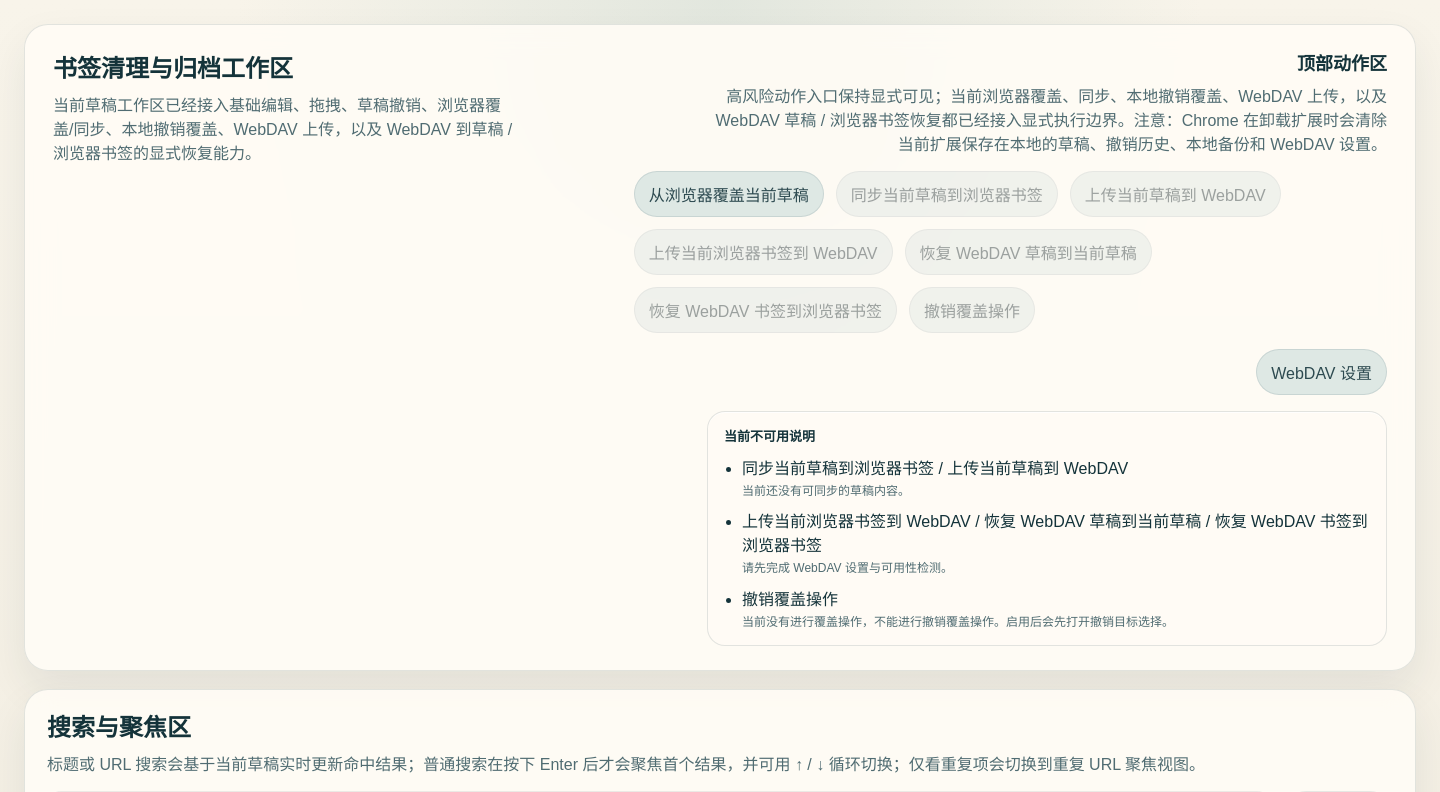
T10 WebDAV configuration and availability gate › shows uninstall data-loss guidance inside the WebDAV settings dialog
Click the button "WebDAV 设置" at (1322, 372), box x1=1256 y1=349 x2=1387 y2=395
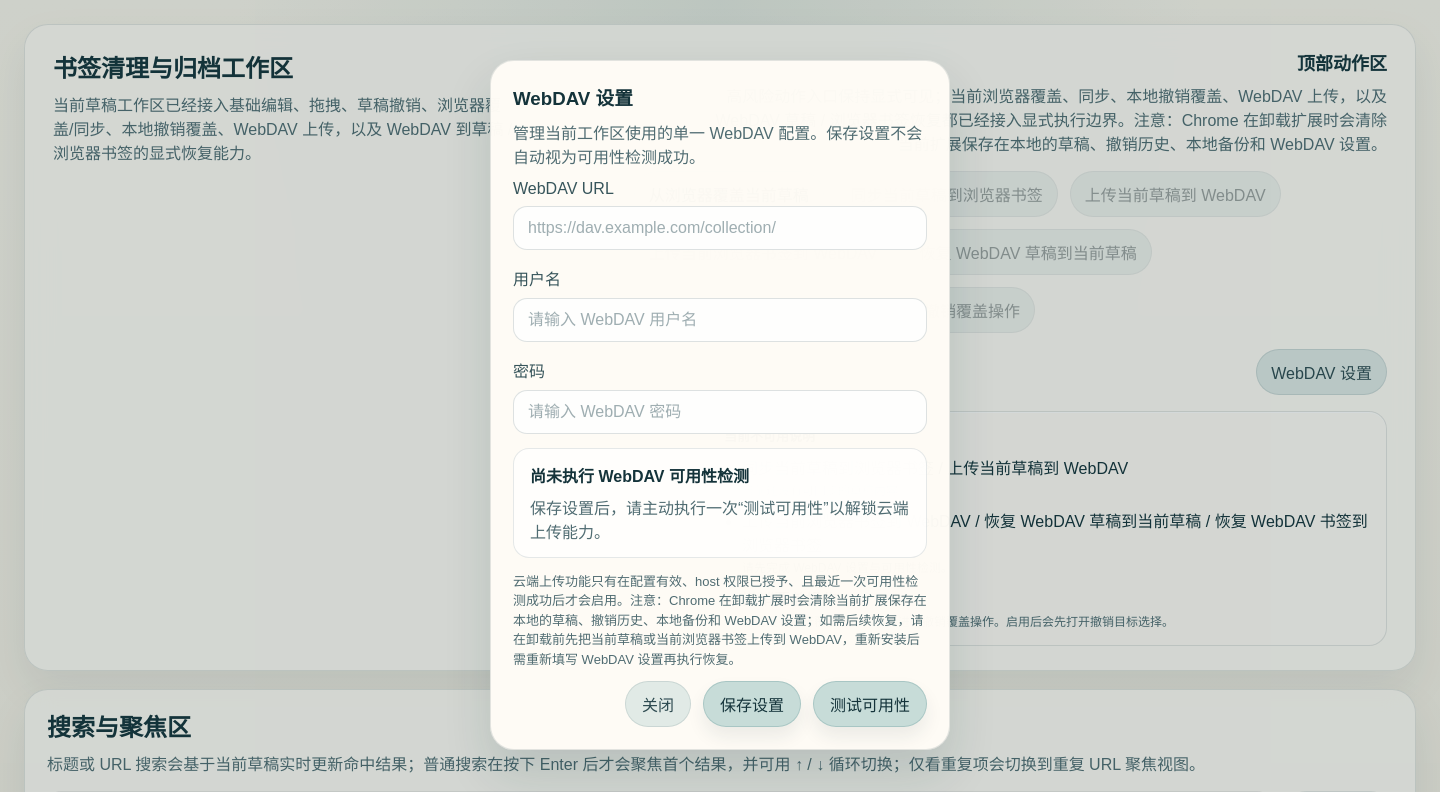
Result: the text "云端上传功能只有在配置有效、host 权限已授予、且最近一次可用性检测成功后才会启用。注意：Chrome 在卸载扩展时会清除当前扩展保存在本地的草稿、撤销历史、本地备份和 WebDAV 设置；如需后续恢复，请在卸载前先把当前草稿或当前浏览器" is shown at x1=513 y1=574 x2=927 y2=667
